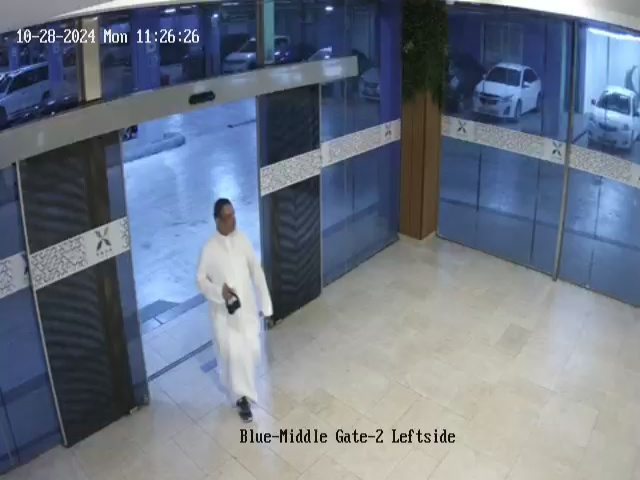male: (195, 198, 274, 424)
